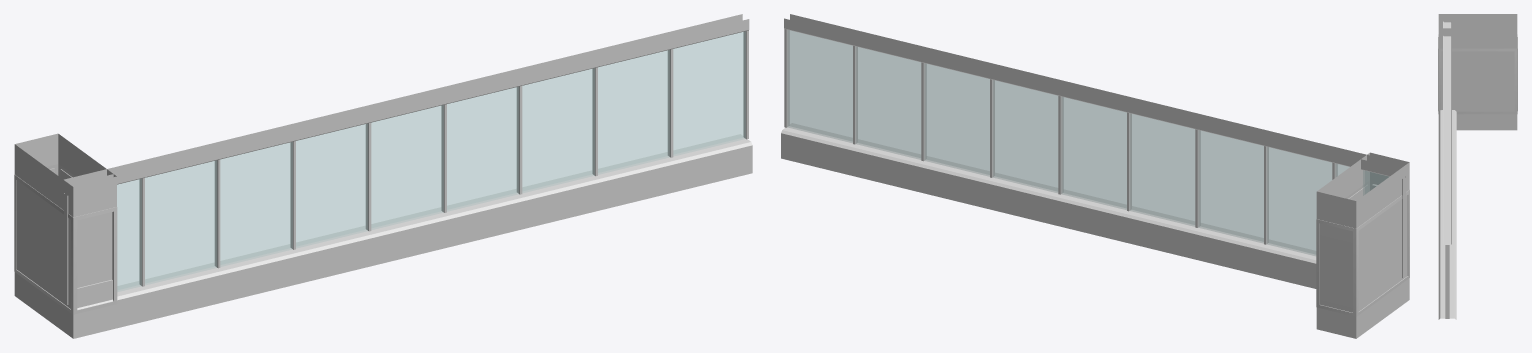
Rendered from Barriers.fbx.
The picture shows the model from 3 angles, left to right: view 1: azimuth 30°, elevation 25°; view 2: azimuth 150°, elevation 25°; view 3: azimuth 270°, elevation 25°; orthographic projection. The views are drawn at different scales.
Visible parts, largest first — view 1: Barriers, Column_01; view 2: Barriers, Column_01; view 3: Column_01, Barriers.
Part boxes in pixels (<box>): Barriers: <box>64,14,752,338</box>; Column_01: <box>14,133,117,338</box>; Barriers: <box>781,14,1405,288</box>; Column_01: <box>1316,152,1409,338</box>; Column_01: <box>1438,14,1517,130</box>; Barriers: <box>1438,21,1456,319</box>.
Bounding box in the file's own units: 1174 × 250 × 177.
